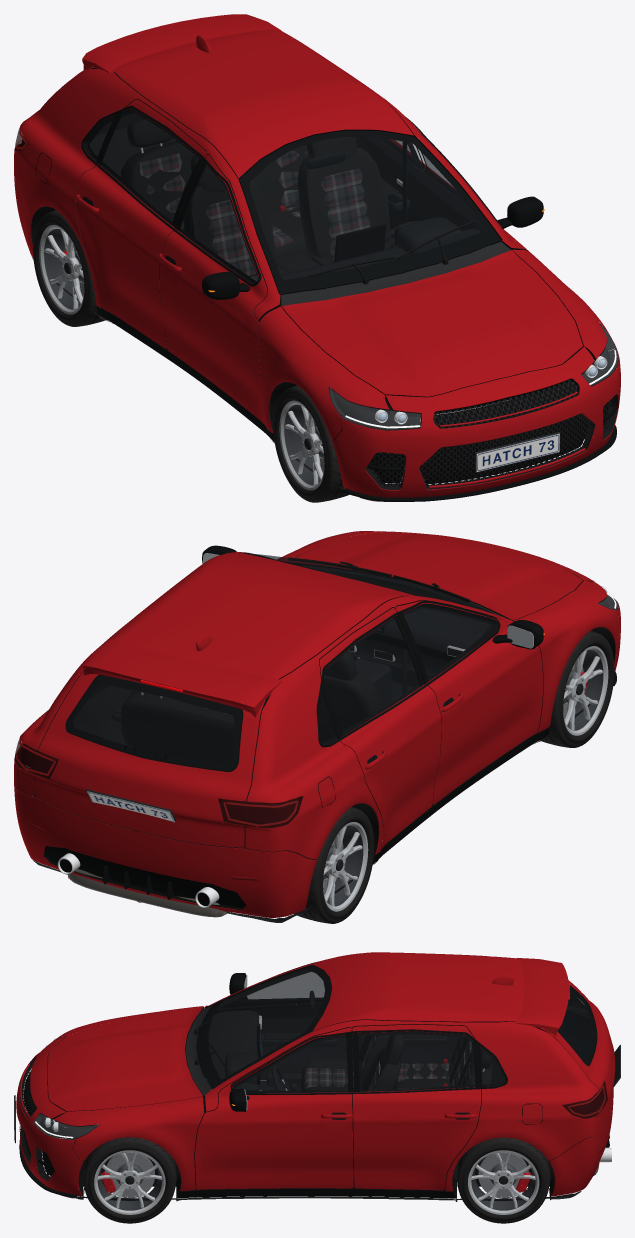
The model's file is hot-hatchback.glb.
3 renders of one model, top to bottom at view 1: azimuth 30°, elevation 25°; view 2: azimuth 150°, elevation 25°; view 3: azimuth 270°, elevation 25°, orthographic. The views are drawn at different scales.
Visible parts, largest first — view 1: Body, Wheel_FR, Wheel_RR; view 2: Body, Wheel_RR, Wheel_FR; view 3: Body, Wheel_FL, Wheel_RL.
Boxes of the visible parts, x1,y1,x2,y2 form: Body: (14, 14, 620, 501); Wheel_FR: (273, 385, 349, 502); Wheel_RR: (33, 210, 105, 326); Body: (14, 531, 620, 922); Wheel_RR: (294, 807, 374, 923); Wheel_FR: (541, 631, 614, 747); Body: (14, 952, 620, 1201); Wheel_FL: (83, 1137, 176, 1223); Wheel_RL: (457, 1137, 550, 1223).
Size of the model in its own units: 2.1 by 1.5 by 4.22.
59 materials, 11 textured.
